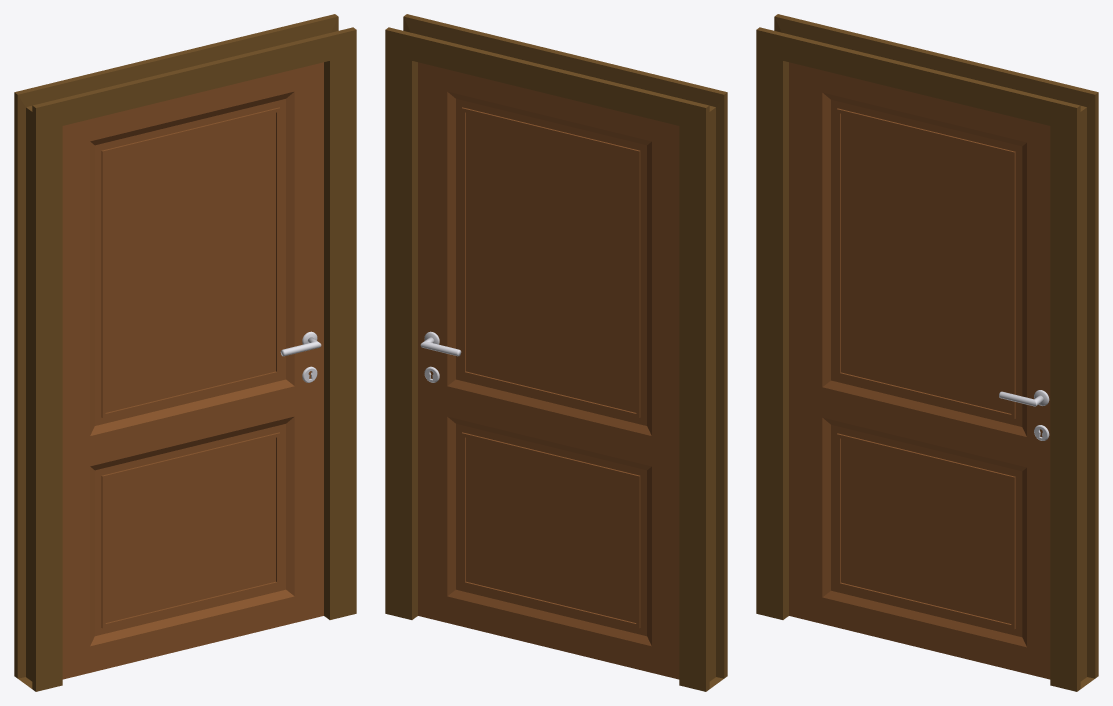
Rendered from Door.gltf.
3 renders of one model, left to right at view 1: azimuth 30°, elevation 25°; view 2: azimuth 150°, elevation 25°; view 3: azimuth 330°, elevation 25°, orthographic.
Visible parts, largest first — view 1: Door1, Frame, Lock; view 2: Door1, Frame, Lock; view 3: Door1, Frame, Lock.
Boxes of the visible parts, box(x1,y1,x2,y2) form: Door1: box(62, 62, 323, 679); Frame: box(14, 14, 356, 691); Lock: box(280, 331, 321, 382); Door1: box(418, 62, 679, 679); Frame: box(385, 14, 727, 691); Lock: box(420, 331, 461, 382); Door1: box(789, 62, 1050, 679); Frame: box(756, 14, 1098, 691); Lock: box(999, 390, 1049, 440).
Size of the model in its own units: 120 by 209 by 17.72.
